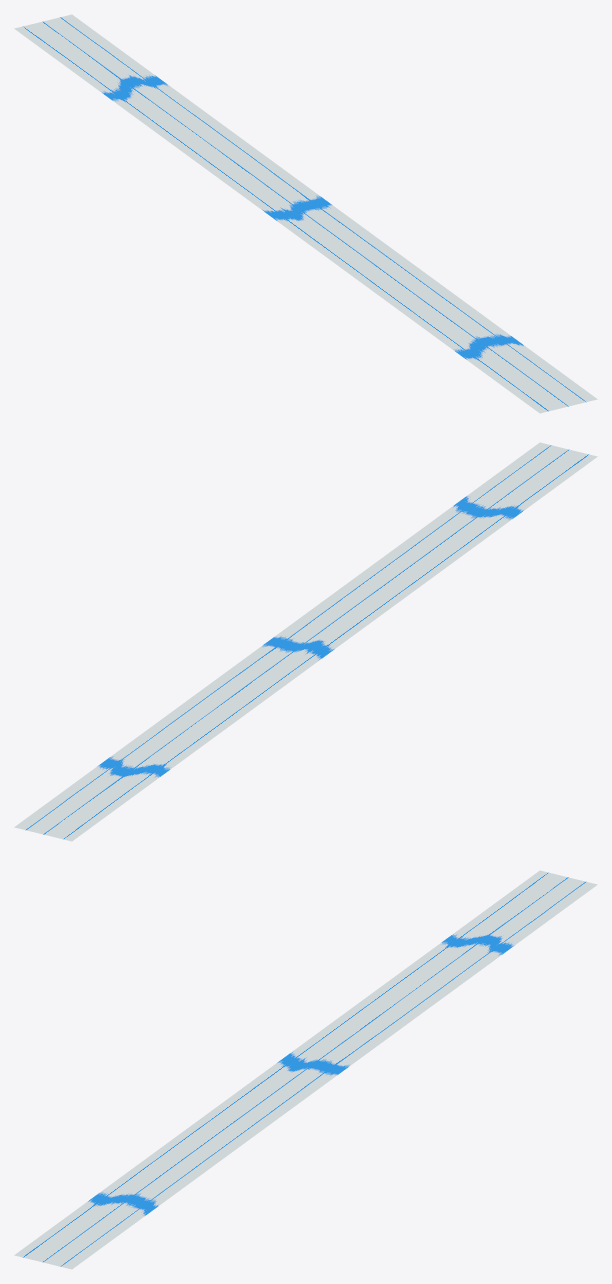
3 renders of one model, top to bottom at view 1: azimuth 30°, elevation 25°; view 2: azimuth 150°, elevation 25°; view 3: azimuth 330°, elevation 25°, orthographic.
Parts seen in each view (by area): view 1: GroundPlane; view 2: GroundPlane; view 3: GroundPlane.
Part boxes in pixels (x1=…): GroundPlane: x1=14, y1=14, x2=597, y2=413; GroundPlane: x1=14, y1=442, x2=597, y2=841; GroundPlane: x1=14, y1=870, x2=597, y2=1269.
Size of the model in its own units: 2655 by 2.22e-14 by 41650.
